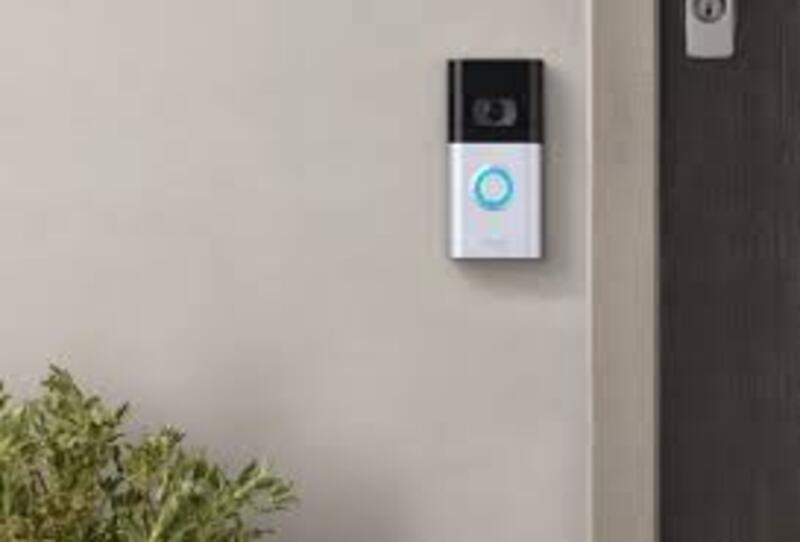doorbell: (441, 49, 550, 261)
